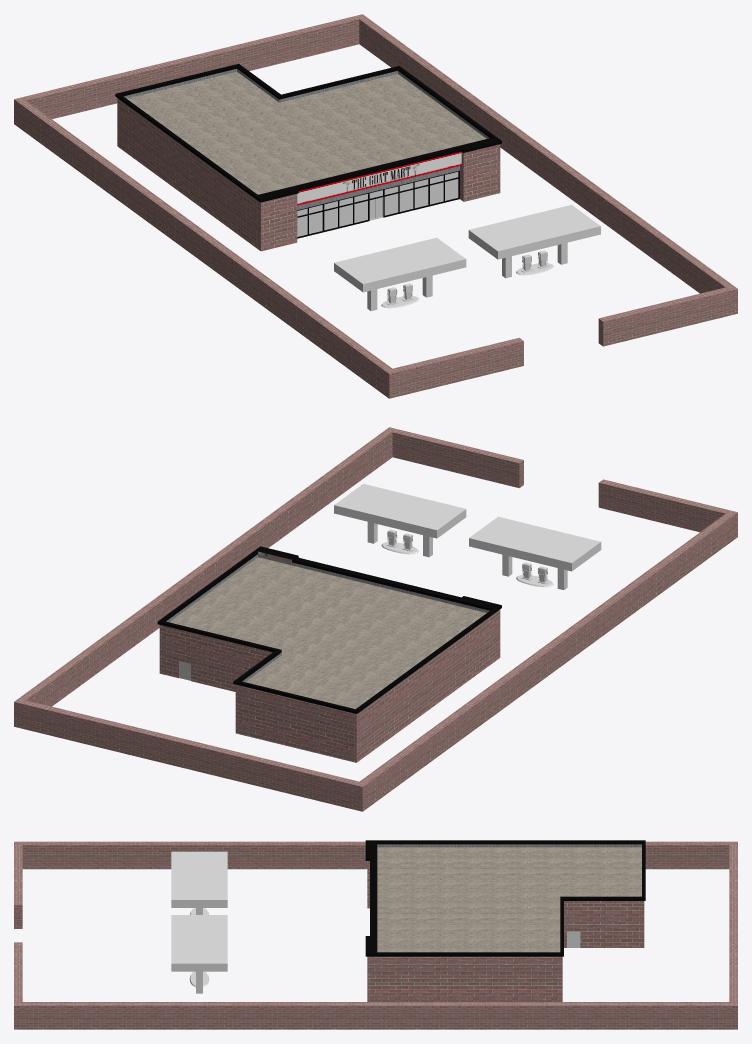
Rendered from Shop.fbx.
3 renders of one model, top to bottom at view 1: azimuth 30°, elevation 25°; view 2: azimuth 150°, elevation 25°; view 3: azimuth 270°, elevation 25°, orthographic. The views are drawn at different scales.
Parts seen in each view (by area): view 1: Brick Wall, Ceiling, Exterior, Gas Station 2, Gas Station 1, Window; view 2: Brick Wall, Ceiling, Exterior, Gas Station 2, Gas Station 1; view 3: Brick Wall, Ceiling, Exterior, Gas Station 1, Gas Station 2.
Part boxes in pixels (left/top/right/bottom): Brick Wall: left=14, top=14, right=737, bottom=398; Ceiling: left=127, top=72, right=486, bottom=194; Exterior: left=115, top=63, right=501, bottom=251; Gas Station 2: left=334, top=237, right=466, bottom=310; Gas Station 1: left=468, top=205, right=600, bottom=278; Window: left=297, top=172, right=458, bottom=236; Brick Wall: left=14, top=427, right=737, bottom=811; Ceiling: left=169, top=557, right=486, bottom=708; Exterior: left=157, top=546, right=501, bottom=762; Gas Station 2: left=469, top=516, right=601, bottom=589; Gas Station 1: left=334, top=484, right=466, bottom=557; Brick Wall: left=14, top=841, right=737, bottom=1029; Ceiling: left=377, top=847, right=641, bottom=952; Exterior: left=365, top=840, right=645, bottom=1001; Gas Station 1: left=171, top=915, right=227, bottom=993; Gas Station 2: left=171, top=851, right=227, bottom=914.
Size of the model in its own units: 44 by 6.3 by 82.
